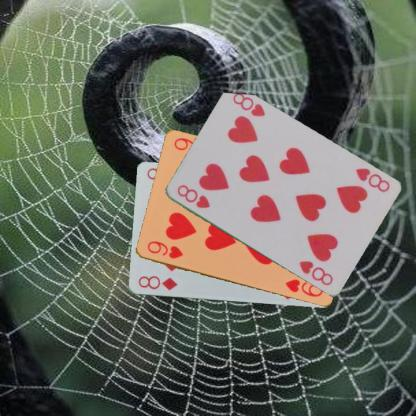8d: (136, 273, 178, 292)
8h: (352, 165, 390, 194), (174, 182, 211, 210)
9h: (144, 238, 184, 260)
